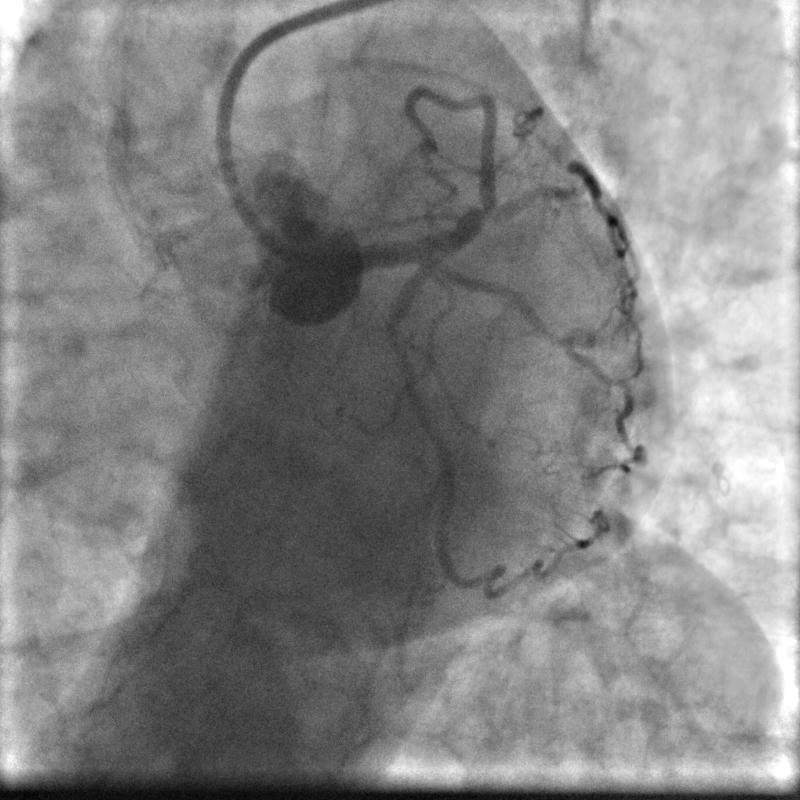Stenosis: (384, 319, 406, 350)
